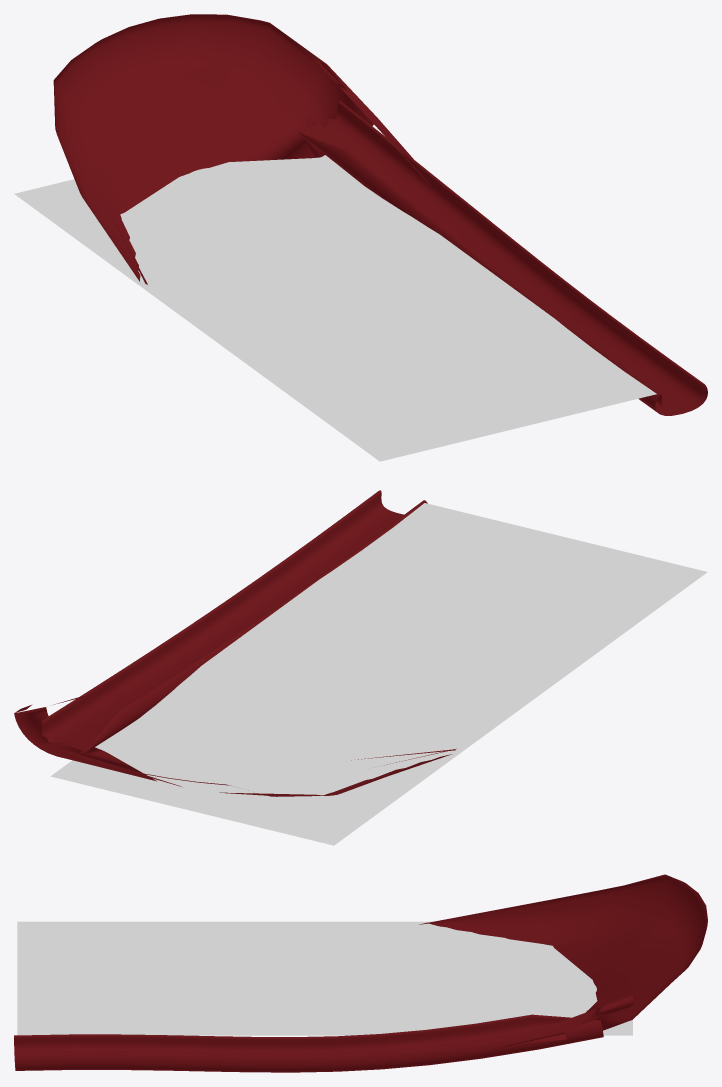
The model's file is arena.fbx.
3 views of the same model, one above another, from view 1: azimuth 30°, elevation 25°; view 2: azimuth 150°, elevation 25°; view 3: azimuth 270°, elevation 25° (orthographic). The views are drawn at different scales.
Visible parts, largest first — view 1: Plane, Level; view 2: Plane, Level; view 3: Plane, Level.
Boxes of the visible parts, <box> form: Plane: <box>14,155,656,461</box>; Level: <box>53,14,707,415</box>; Plane: <box>50,503,707,845</box>; Level: <box>14,490,456,796</box>; Plane: <box>17,921,632,1035</box>; Level: <box>14,874,707,1072</box>.
Size of the model in its own units: 8165 by 2948 by 17645.
